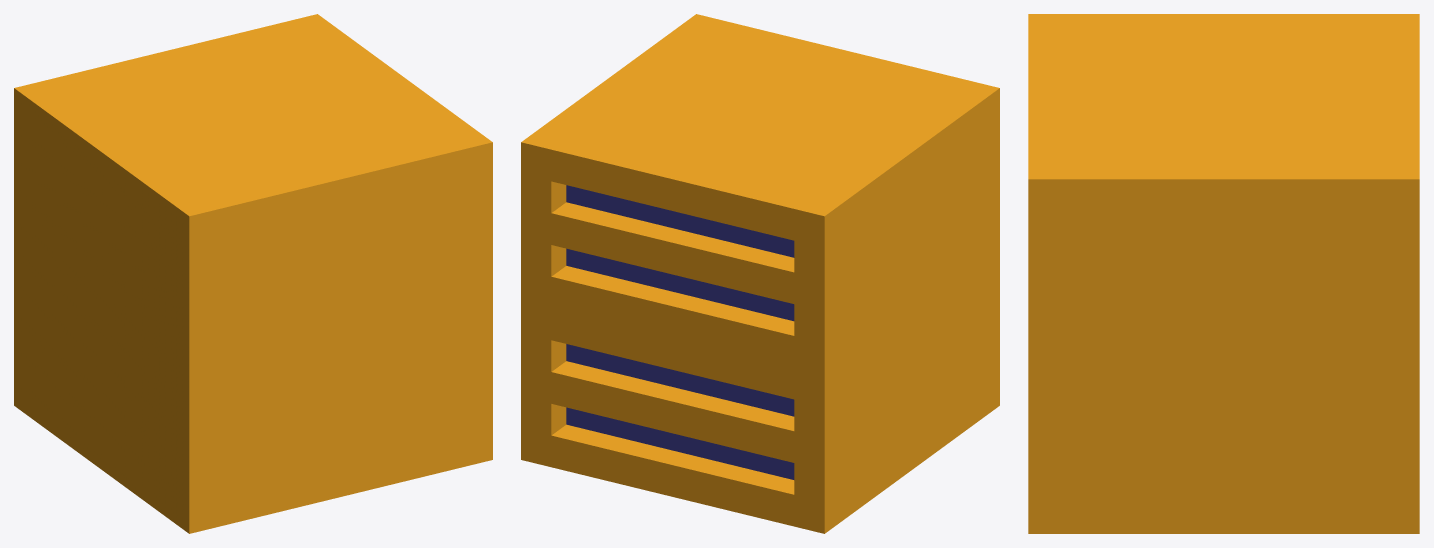
File: HorizontalWindows.fbx
3 renders of one model, left to right at view 1: azimuth 30°, elevation 25°; view 2: azimuth 150°, elevation 25°; view 3: azimuth 270°, elevation 25°, orthographic. The views are drawn at different scales.
Visible parts, largest first — view 1: HorizontalWindows; view 2: HorizontalWindows; view 3: HorizontalWindows.
Boxes of the visible parts, bbox=[...] form: HorizontalWindows: bbox=[14, 14, 492, 533]; HorizontalWindows: bbox=[521, 14, 999, 533]; HorizontalWindows: bbox=[1028, 14, 1419, 533].
Bounding box in the file's own units: 200 × 200 × 200.
